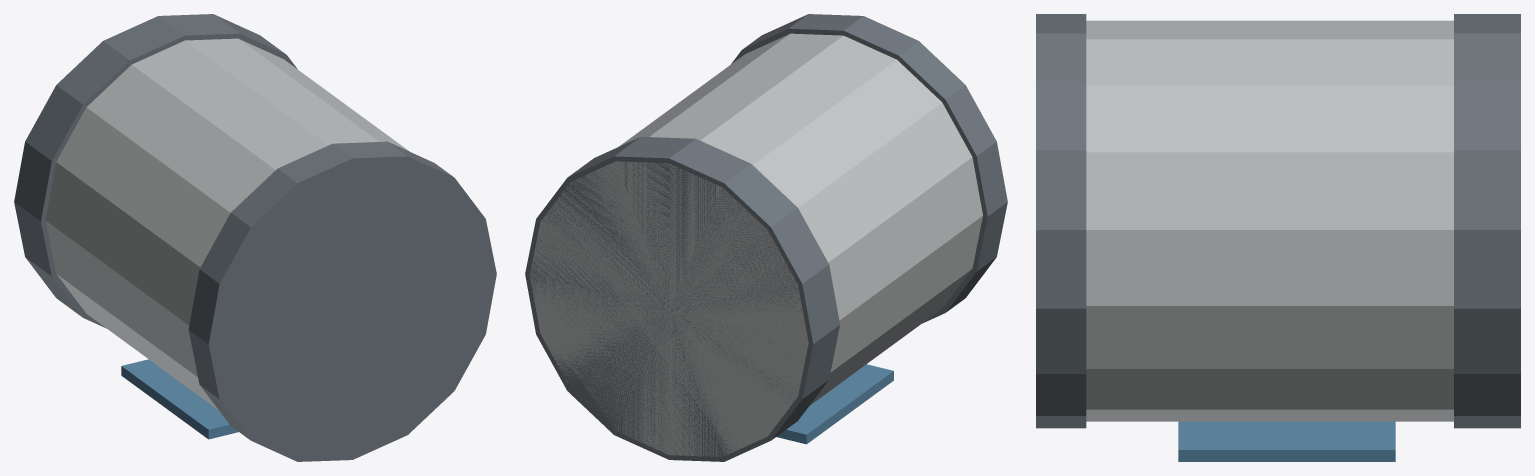
The model's file is canned_tuna.glb.
3 views of the same model, side by side, from view 1: azimuth 30°, elevation 25°; view 2: azimuth 150°, elevation 25°; view 3: azimuth 270°, elevation 25° (orthographic). The views are drawn at different scales.
Visible parts, largest first — view 1: 02_top_rim, 00_can_body, 01_bottom_rim, 03_label; view 2: 00_can_body, 01_bottom_rim, 02_top_rim, 03_label; view 3: 00_can_body, 01_bottom_rim, 02_top_rim, 03_label.
Boxes of the visible parts, bbox=[...] form: 02_top_rim: bbox=[188, 141, 496, 461]; 00_can_body: bbox=[45, 38, 409, 410]; 01_bottom_rim: bbox=[14, 14, 297, 328]; 03_label: bbox=[121, 359, 238, 439]; 00_can_body: bbox=[530, 33, 982, 456]; 01_bottom_rim: bbox=[525, 136, 839, 461]; 02_top_rim: bbox=[731, 14, 1007, 323]; 03_label: bbox=[776, 364, 893, 444]; 00_can_body: bbox=[1086, 20, 1453, 421]; 01_bottom_rim: bbox=[1454, 14, 1520, 428]; 02_top_rim: bbox=[1036, 14, 1086, 428]; 03_label: bbox=[1178, 421, 1395, 461].
Size of the model in its own units: 0.248 by 0.253 by 0.29.
